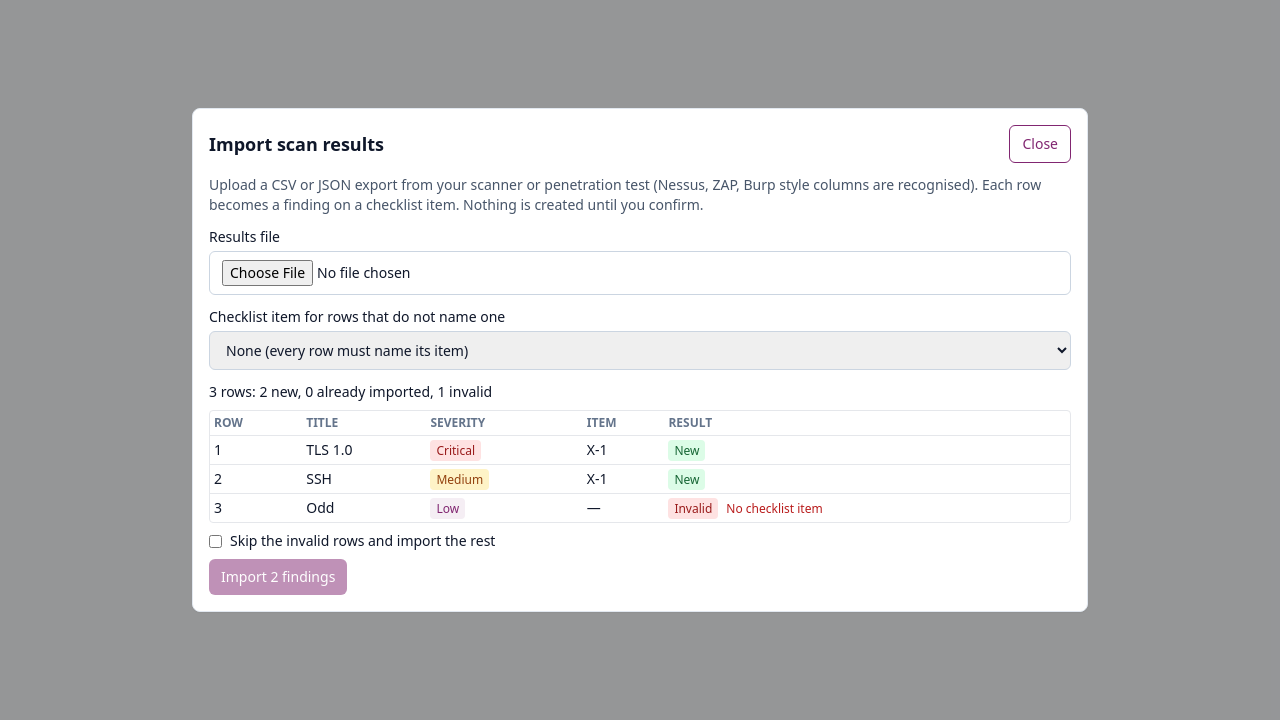
Test: invalid rows block the import until they are skipped; then it commits with the chosen default item
Earlier steps of the test are not shown.
Expected: the button "Import 2 findings" is disabled, [209,559,347,595]
Select "X-1 — MFA" in the dropdown named "Default checklist item" at [640, 350], box [209,331,1071,370]
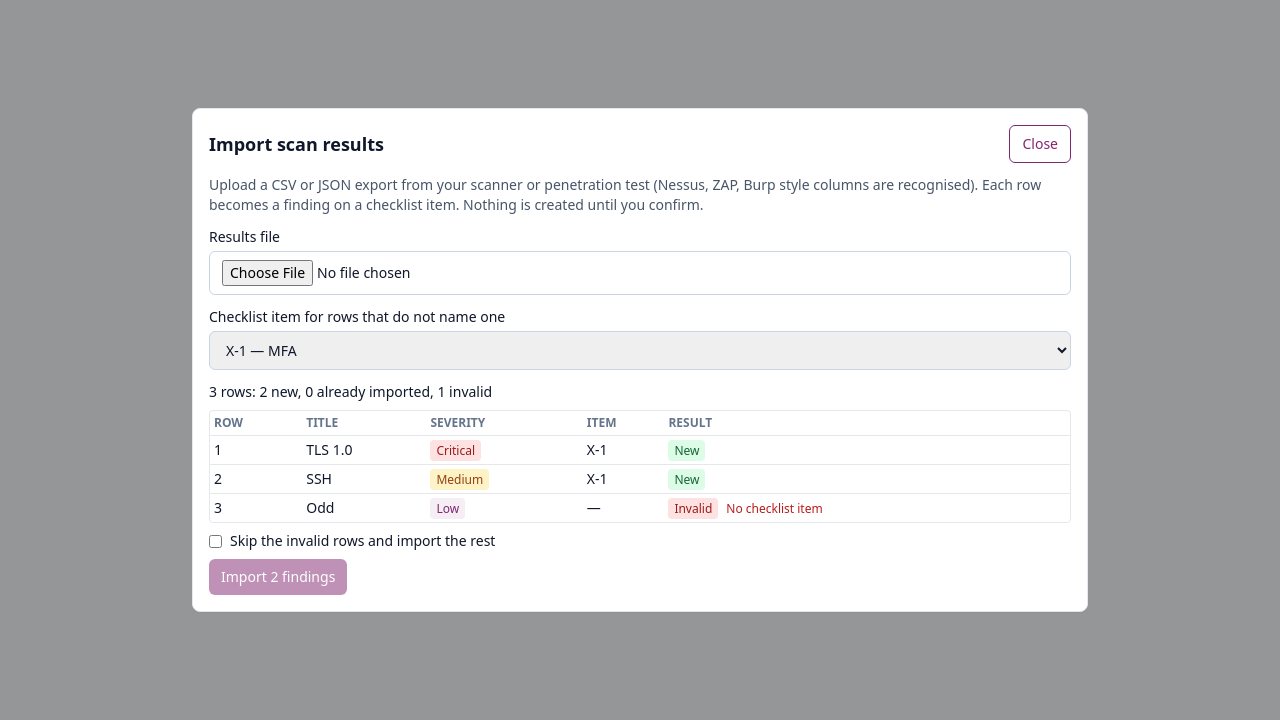
Click the checkbox labelled "Skip the invalid rows and import the rest" at [216, 541], box [209,534,222,548]
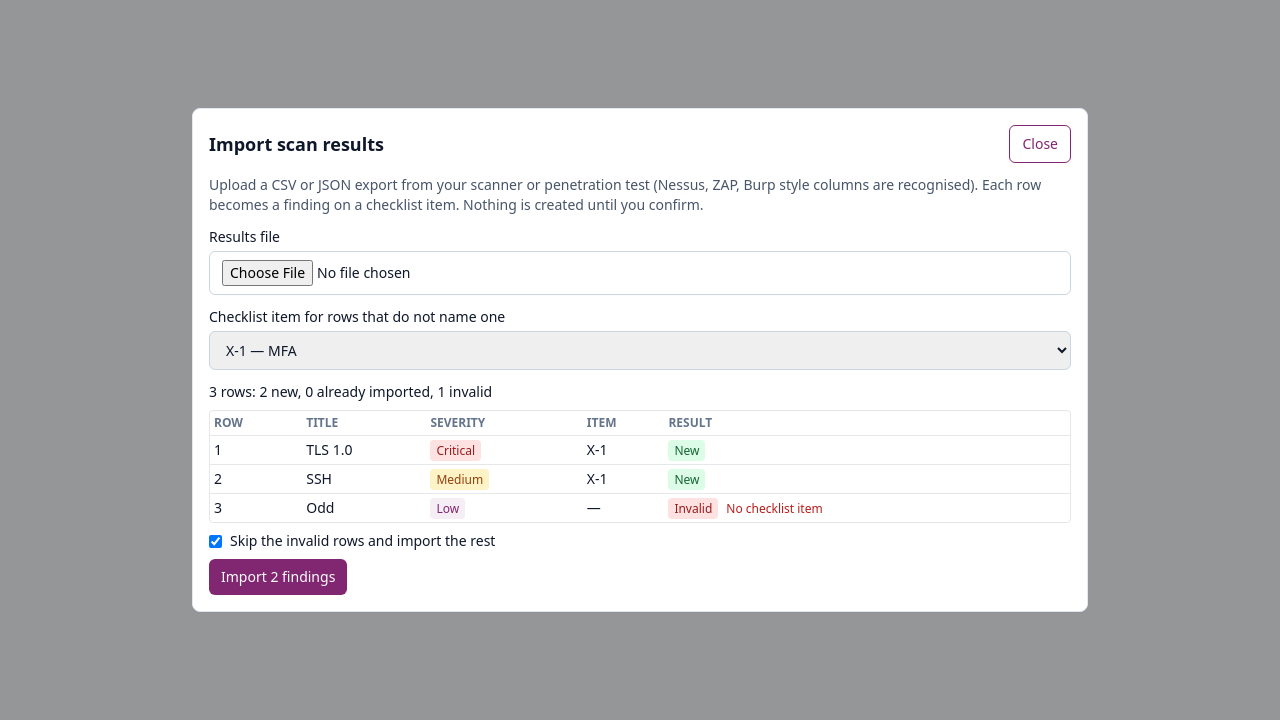
Expected: the button "Import 2 findings" is enabled
Click the button "Import 2 findings" at [278, 577], box [209,559,347,595]
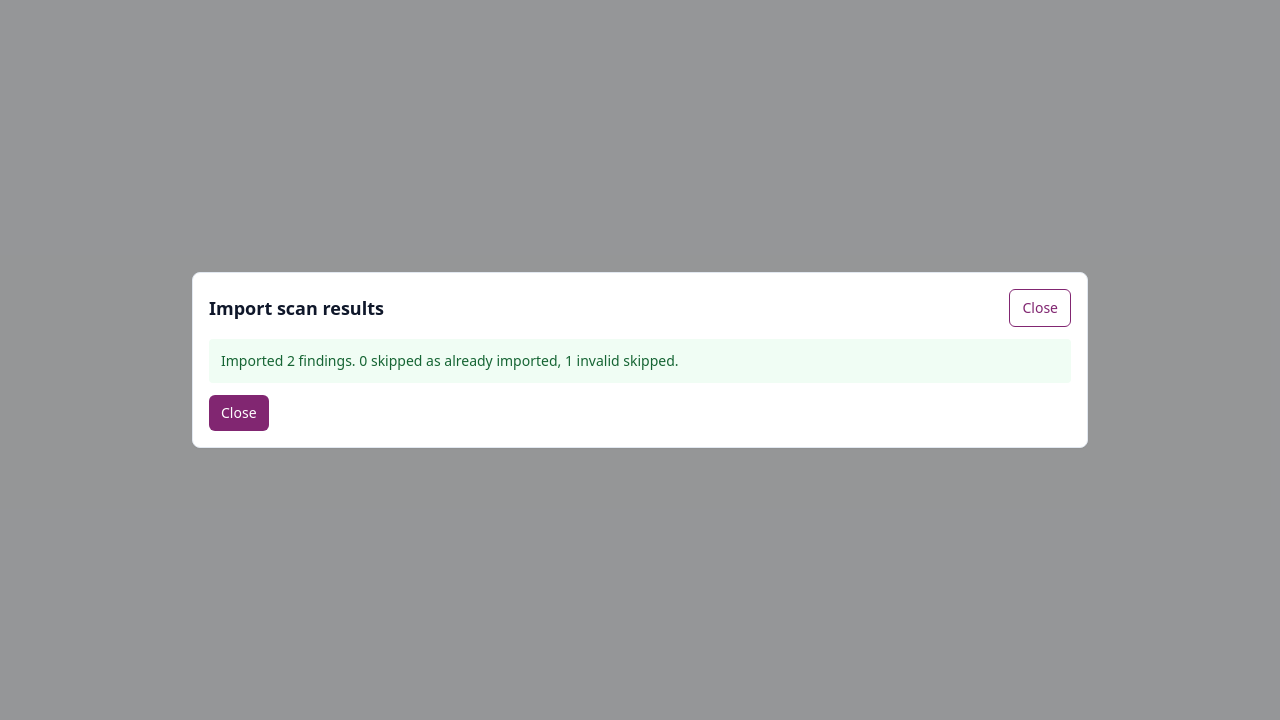
Expected: the text "Imported 2 findings. 0 skipped as already imported, 1 invalid skipped." is shown, [209,339,1071,383]
